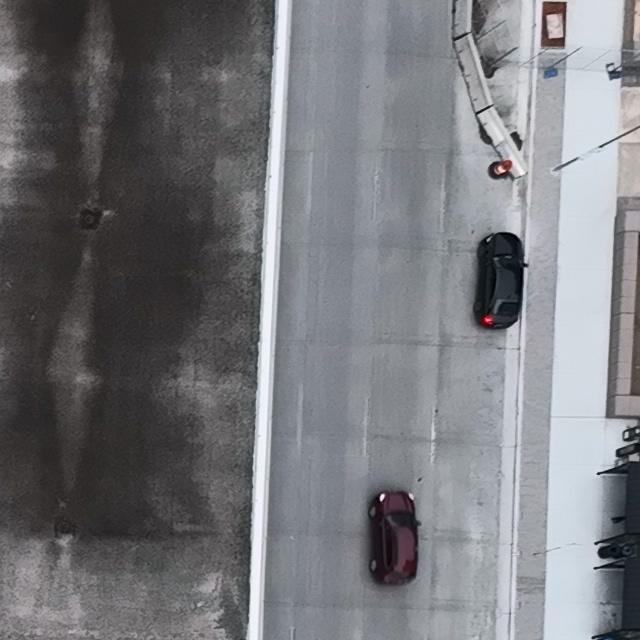car: (473, 233, 529, 330), (365, 491, 421, 586)
